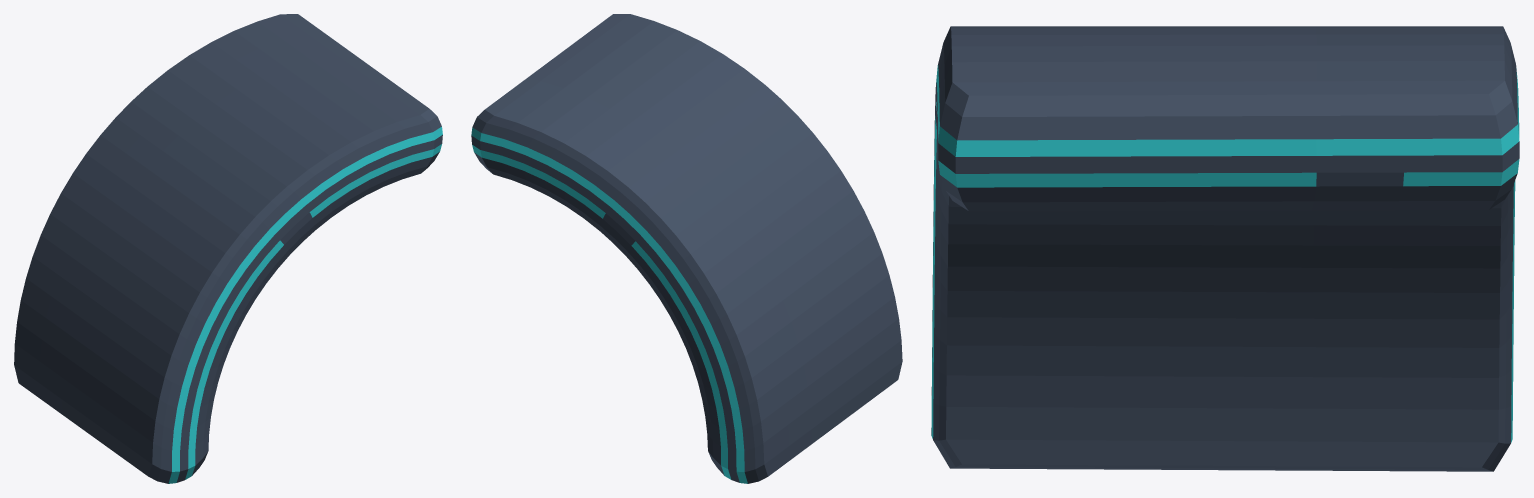
Rendered from Arc_100.fbx.
The picture shows the model from 3 angles, left to right: view 1: azimuth 30°, elevation 25°; view 2: azimuth 150°, elevation 25°; view 3: azimuth 270°, elevation 25°; orthographic projection. The views are drawn at different scales.
Visible parts, largest first — view 1: Cube.001; view 2: Cube.001; view 3: Cube.001.
Boxes of the visible parts, x1,y1,x2,y2 form: Cube.001: [14, 14, 442, 483]; Cube.001: [471, 14, 902, 483]; Cube.001: [931, 26, 1519, 471].
Bounding box in the file's own units: 625 × 630 × 543.
